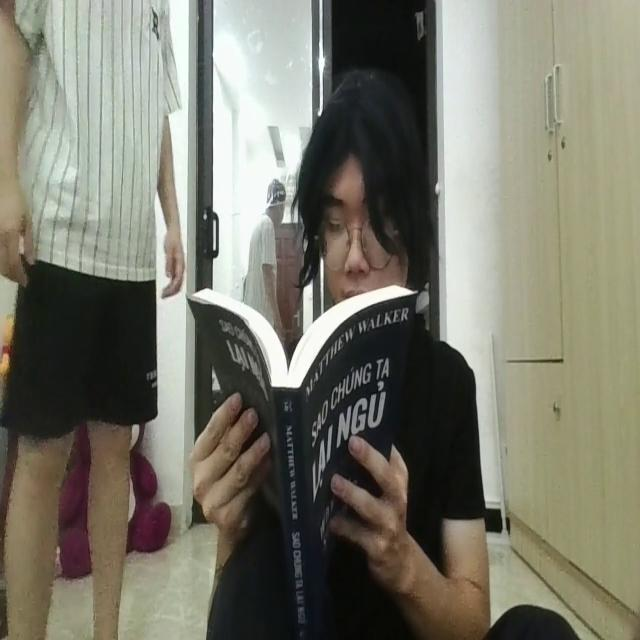book: (186, 271, 423, 636)
extra_person: (1, 0, 189, 640)
student: (194, 66, 488, 640)
